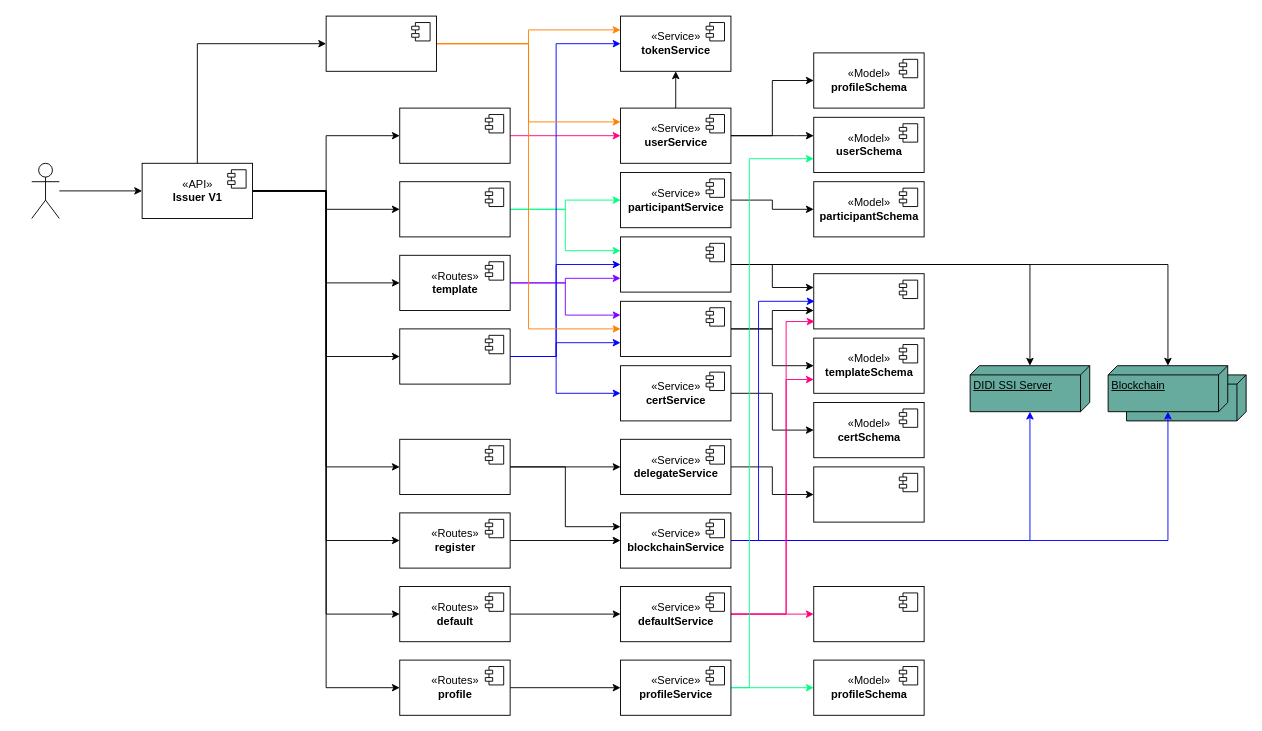
The diagram is 1262 pixels wide and 731 high, and some of its shapes have lost their labels. The shapes that lost their labels are listed below. From the top down, each one's box as (x1, y1, x2, y2) in pixels, then its label:
(325, 15, 437, 71): «Validators» validator
(399, 107, 510, 163): «Routes» user
(31, 162, 59, 218): Issuer Front
(399, 181, 510, 237): «Routes» participant
(620, 236, 731, 292): «Service» MouroService
(813, 273, 924, 329): «Model» registerSchema
(620, 300, 731, 356): «Service» TemplateService
(399, 328, 510, 384): «Routes» cert
(399, 438, 510, 494): «Routes» delegate
(813, 466, 924, 522): «Model» delegateSchema
(813, 586, 924, 642): «Model» defaultValues Schema
